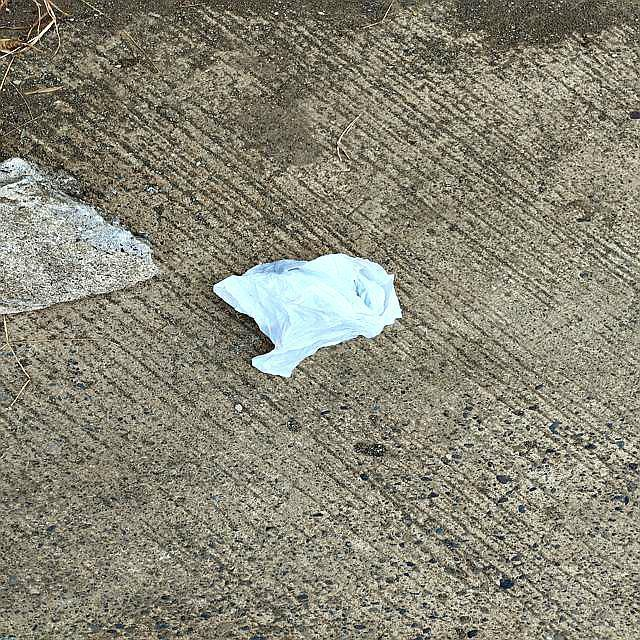Non-biodegradable: (212, 251, 404, 381)
